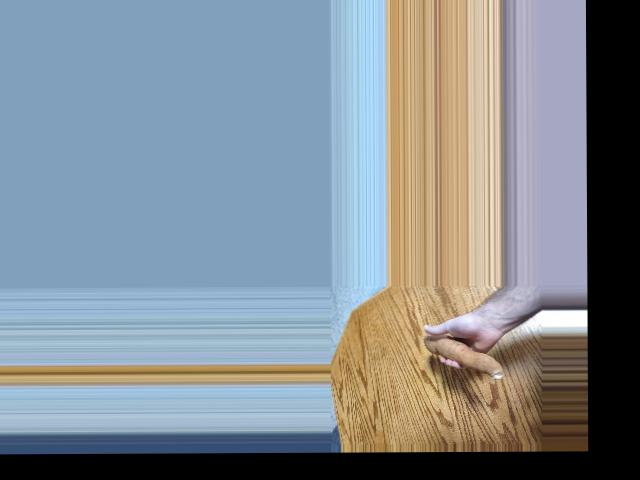sweet_potato: (420, 336, 505, 378)
